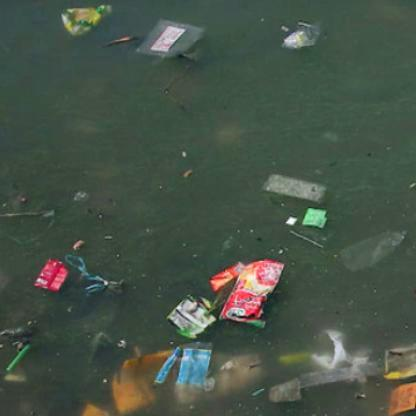Trash: (208, 251, 288, 332), (135, 13, 208, 67), (153, 343, 218, 396), (164, 292, 219, 340), (54, 2, 113, 40), (276, 17, 323, 55), (32, 254, 72, 298), (302, 202, 330, 232)
